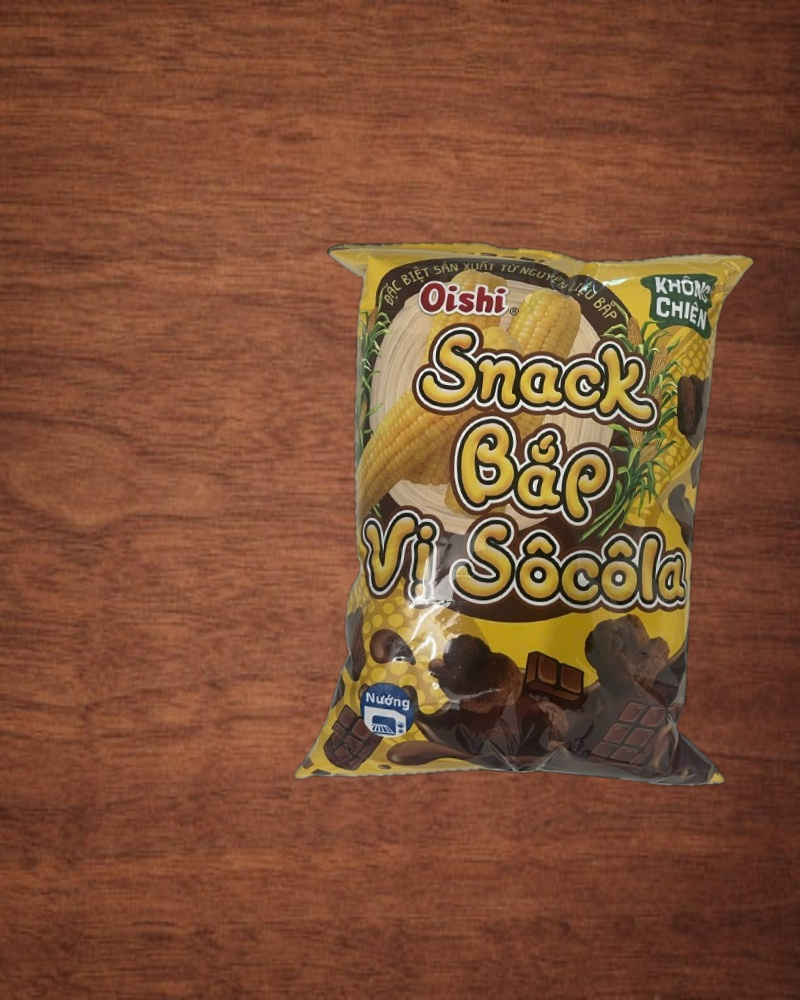Snack socola: (285, 224, 771, 805)
